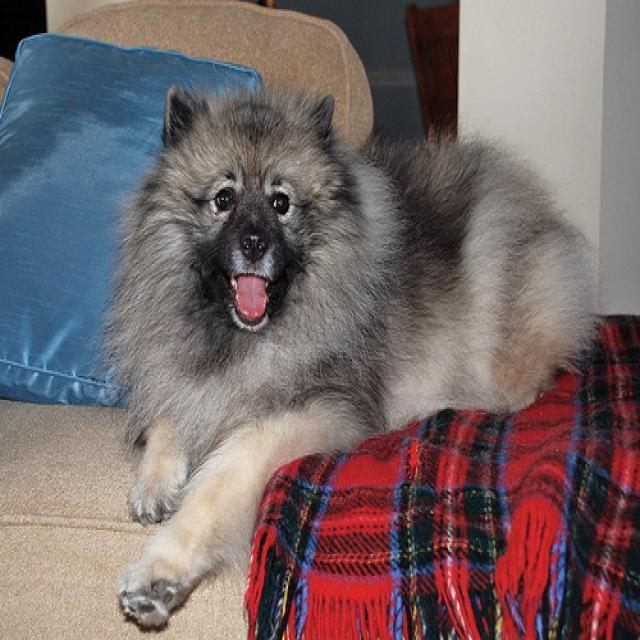dog-keeshond: (84, 73, 603, 636)
